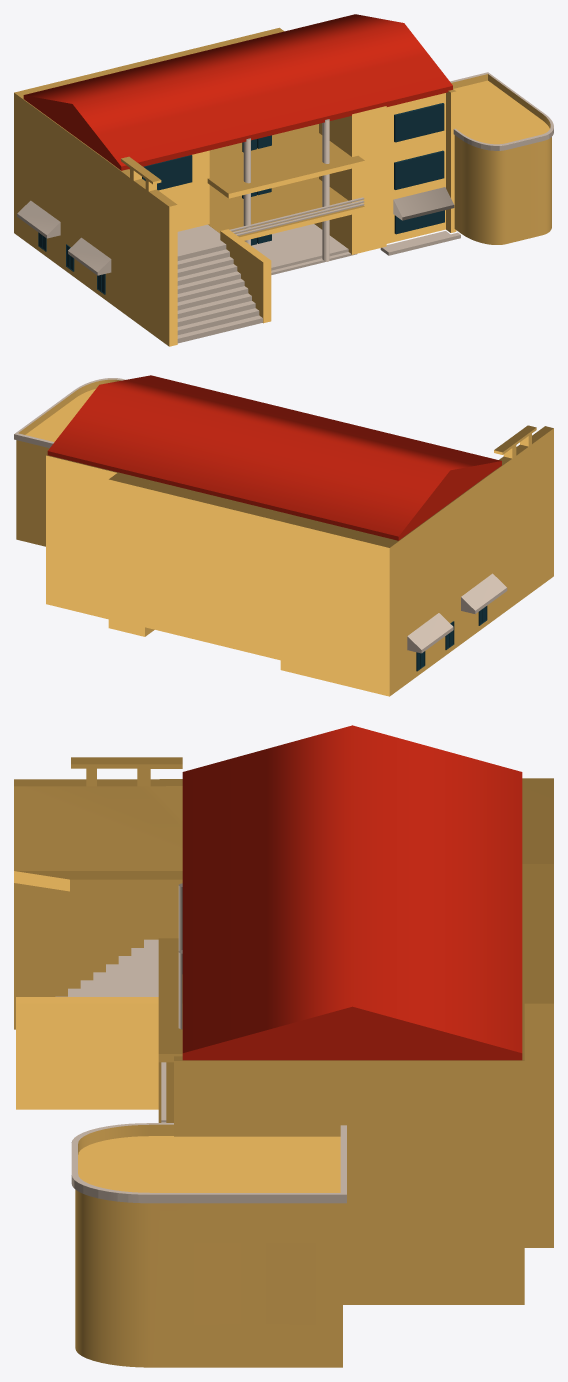
The picture shows the model from 3 angles, top to bottom: view 1: azimuth 30°, elevation 25°; view 2: azimuth 150°, elevation 25°; view 3: azimuth 270°, elevation 25°; orthographic projection. The views are drawn at different scales.
Visible parts, largest first — view 1: CC10, CC01, CC37, CC09, CC04, CC00, CC08; view 2: CC10, CC01, CC37; view 3: CC10, CC01, CC04, CC37, CC09.
Part boxes in pixels (x1,y1,x2,y2): CC10: [14, 27, 551, 346]; CC01: [23, 14, 452, 170]; CC37: [17, 72, 553, 275]; CC09: [177, 224, 262, 343]; CC04: [142, 103, 444, 245]; CC00: [251, 224, 348, 270]; CC08: [380, 231, 460, 255]; CC10: [16, 379, 553, 696]; CC01: [47, 375, 501, 540]; CC37: [14, 378, 507, 653]; CC10: [14, 757, 553, 1367]; CC01: [182, 725, 522, 1060]; CC04: [193, 1242, 315, 1324]; CC37: [71, 883, 346, 1203]; CC09: [55, 939, 158, 996].
Size of the model in its own units: 12598 by 4919 by 7915.
